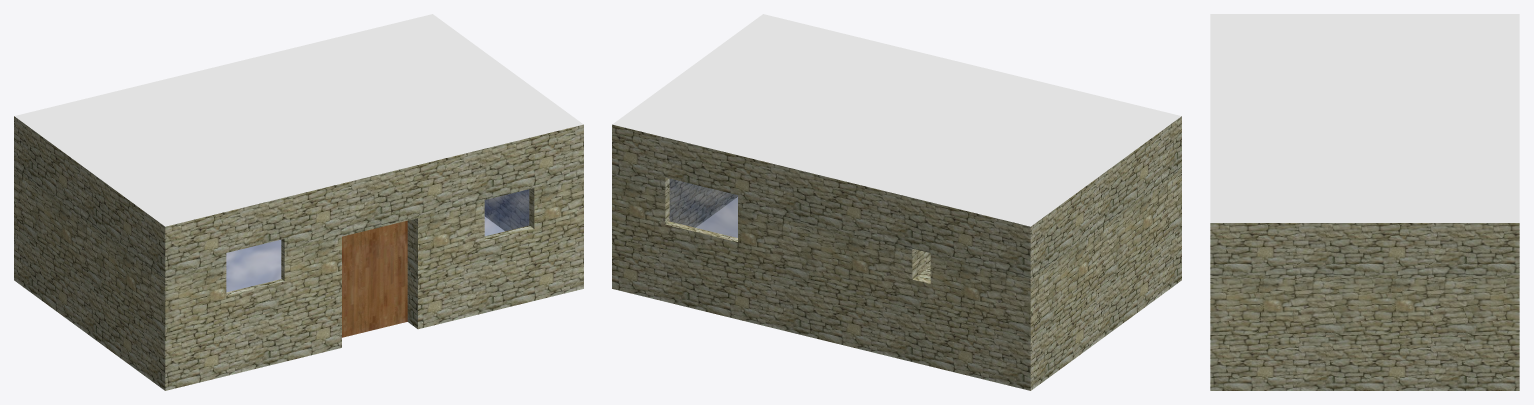
The model's file is maison5_body.dae.
The picture shows the model from 3 angles, left to right: view 1: azimuth 30°, elevation 25°; view 2: azimuth 150°, elevation 25°; view 3: azimuth 270°, elevation 25°; orthographic projection. The views are drawn at different scales.
Visible parts, largest first — view 1: group_0 (×7); view 2: group_0 (×6); view 3: group_0 (×2).
Boxes of the visible parts, bbox=[...] form: group_0 (×7): bbox=[14, 14, 583, 390]; group_0 (×6): bbox=[612, 14, 1181, 390]; group_0 (×2): bbox=[1210, 14, 1519, 390].
Bounding box in the file's own units: 315 × 197 × 118.
4 materials, 3 textured.
